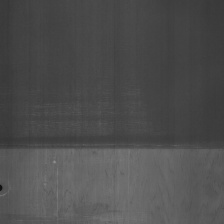welding_line: (1, 136, 224, 158)
